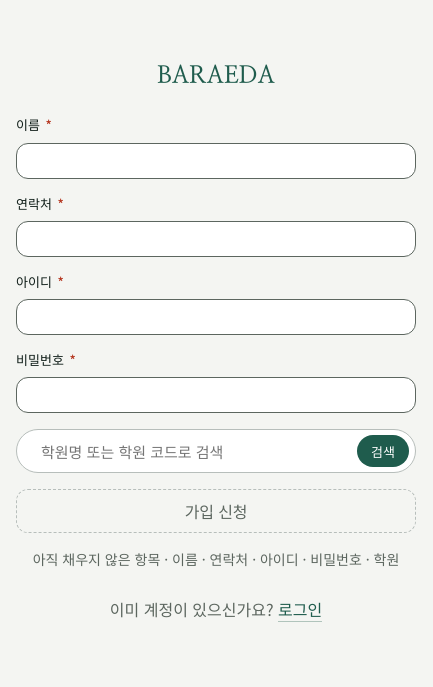
Test: SignupForm › 학원 검색은 form 을 중첩하지 않고, 검색 Enter 가 가입 신청을 보내지 않는다
Step 1. Type "학원" into the field with placeholder "학원명 또는 학원 코드로 검색" → coordinates (194, 451), box 39,440 -> 349,463
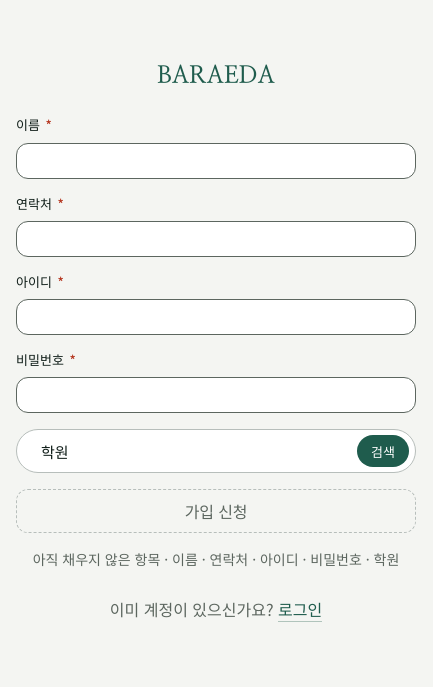
Step 2. Press Enter in the field with placeholder "학원명 또는 학원 코드로 검색", box 39,440 -> 349,463
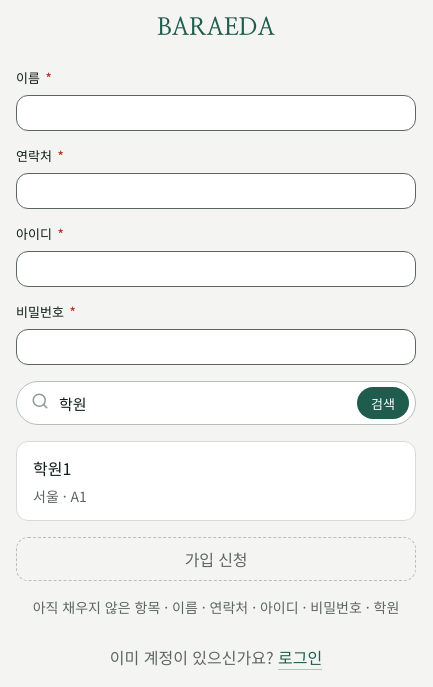
Now the button "학원1 서울 · A1" is shown, box 16,441 -> 416,521
